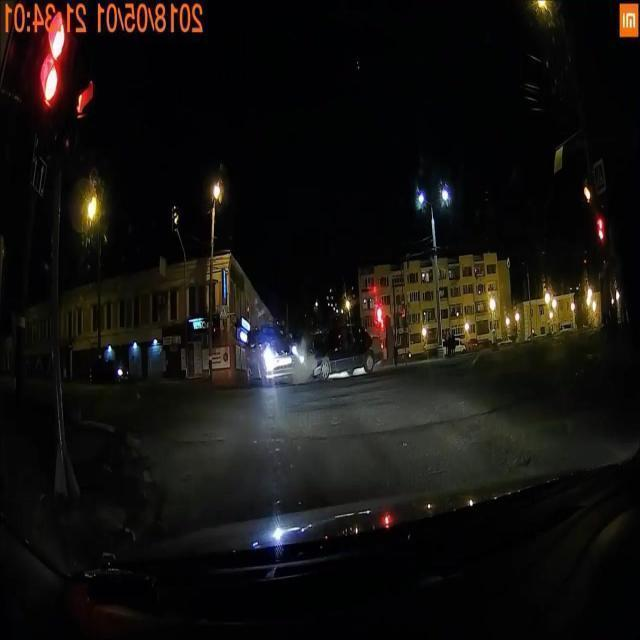accident: (242, 316, 386, 392)
